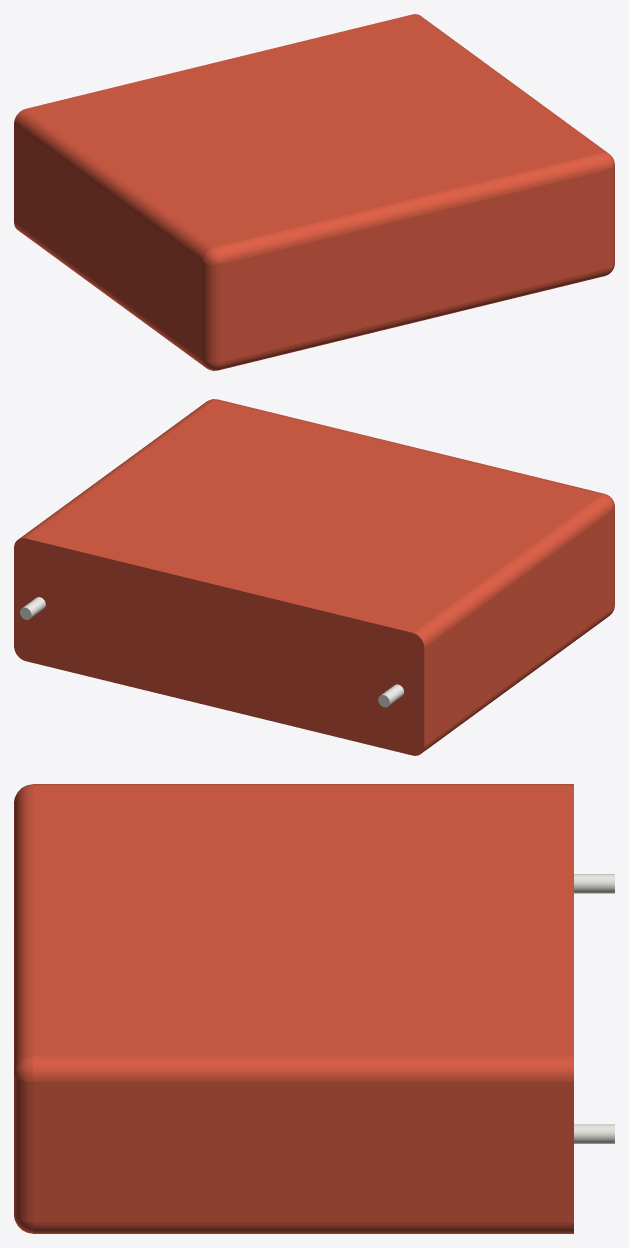
File: C_Rect_L31.5mm_W9.0mm_P27.50mm_MKS4.glb
3 renders of one model, top to bottom at view 1: azimuth 30°, elevation 25°; view 2: azimuth 150°, elevation 25°; view 3: azimuth 270°, elevation 25°, orthographic. The views are drawn at different scales.
Visible parts, largest first — view 1: Shape_IndexedFaceSet.009, Shape_IndexedFaceSet.007, Shape_IndexedFaceSet, Shape_IndexedFaceSet.016, Shape_IndexedFaceSet.004, Shape_IndexedFaceSet.015, Shape_IndexedFaceSet.002, Shape_IndexedFaceSet.001, Shape_IndexedFaceSet.011, Shape_IndexedFaceSet.017; view 2: Shape_IndexedFaceSet.009, Shape_IndexedFaceSet.003, Shape_IndexedFaceSet, Shape_IndexedFaceSet.004, Shape_IndexedFaceSet.001, Shape_IndexedFaceSet.011, Shape_IndexedFaceSet.016; view 3: Shape_IndexedFaceSet.009, Shape_IndexedFaceSet.012, Shape_IndexedFaceSet.011, Shape_IndexedFaceSet.010, Shape_IndexedFaceSet.016, Shape_IndexedFaceSet.017, Shape_IndexedFaceSet.004, Shape_IndexedFaceSet.013, Shape_IndexedFaceSet.014.
Part boxes in pixels (x1,y1,x2,y2): Shape_IndexedFaceSet.009: (26,14,600,246); Shape_IndexedFaceSet.007: (221,170,608,362); Shape_IndexedFaceSet: (14,124,202,359); Shape_IndexedFaceSet.016: (215,152,608,263); Shape_IndexedFaceSet.004: (14,109,213,261); Shape_IndexedFaceSet.015: (218,268,608,370); Shape_IndexedFaceSet.002: (202,262,221,362); Shape_IndexedFaceSet.001: (14,222,205,367); Shape_IndexedFaceSet.011: (413,14,607,152); Shape_IndexedFaceSet.017: (608,166,614,267); Shape_IndexedFaceSet.009: (26,400,600,632); Shape_IndexedFaceSet.003: (14,538,424,755); Shape_IndexedFaceSet: (424,510,613,745); Shape_IndexedFaceSet.004: (413,494,613,647); Shape_IndexedFaceSet.001: (421,608,612,753); Shape_IndexedFaceSet.011: (19,400,213,538); Shape_IndexedFaceSet.016: (215,399,603,494); Shape_IndexedFaceSet.009: (33,786,573,1056); Shape_IndexedFaceSet.012: (33,1082,573,1222); Shape_IndexedFaceSet.011: (33,1056,573,1081); Shape_IndexedFaceSet.010: (33,1222,573,1233); Shape_IndexedFaceSet.016: (14,786,33,1071); Shape_IndexedFaceSet.017: (14,1075,33,1222); Shape_IndexedFaceSet.004: (33,784,573,785); Shape_IndexedFaceSet.013: (574,874,614,893); Shape_IndexedFaceSet.014: (574,1124,614,1143).
Size of the model in its own units: 12.4 by 3.54 by 10.98.
